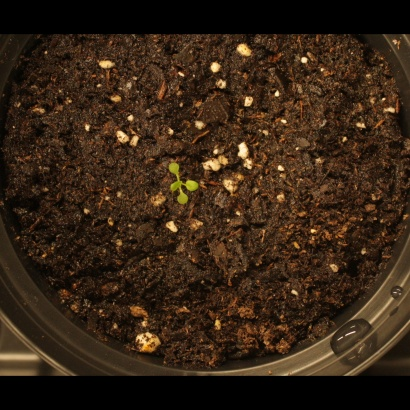leaf: (166, 153, 189, 176), (185, 171, 208, 194), (159, 171, 182, 194), (171, 190, 194, 213)
